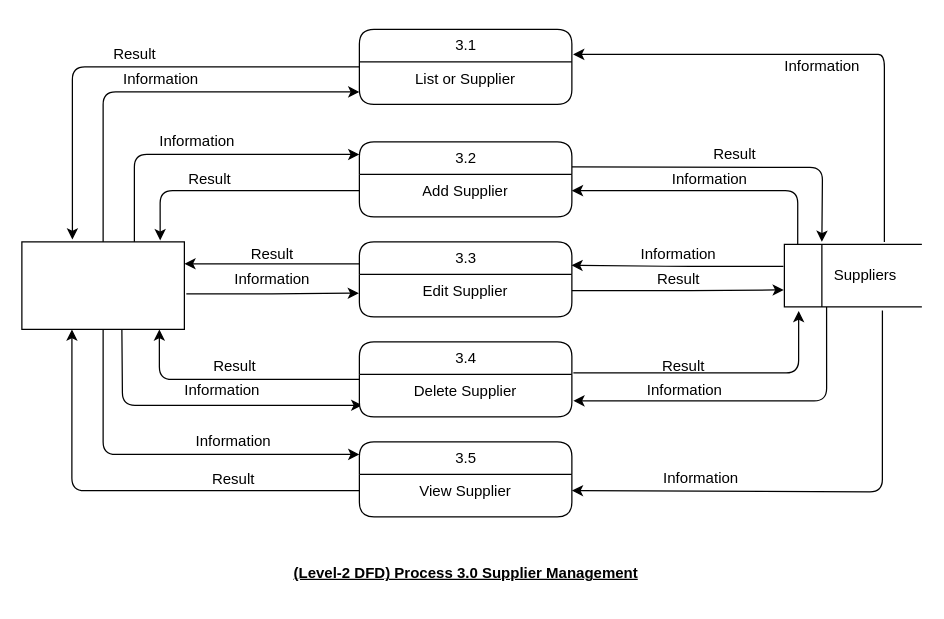
The diagram is 944 pixels wide and 619 high, and some of its shapes have lost their labels. Each missing label, with the box of its shape:
Admin: (21, 241, 184, 329)
D3: (783, 243, 922, 307)
